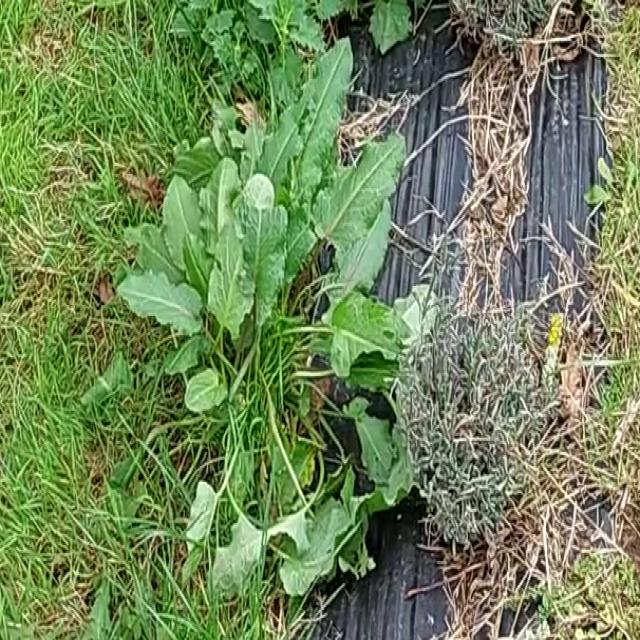organic waste: (118, 30, 433, 575)
